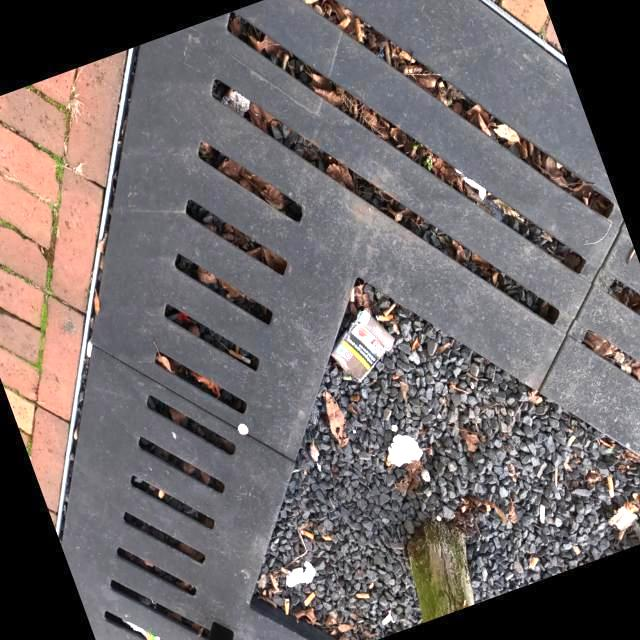Paper: (329, 308, 396, 384), (388, 432, 424, 468), (285, 560, 317, 588)
